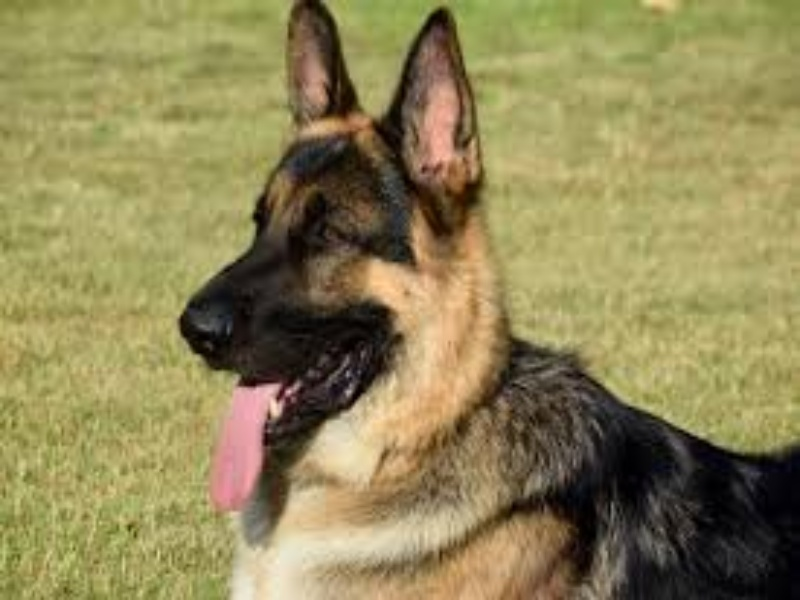dog: (170, 7, 706, 591)
